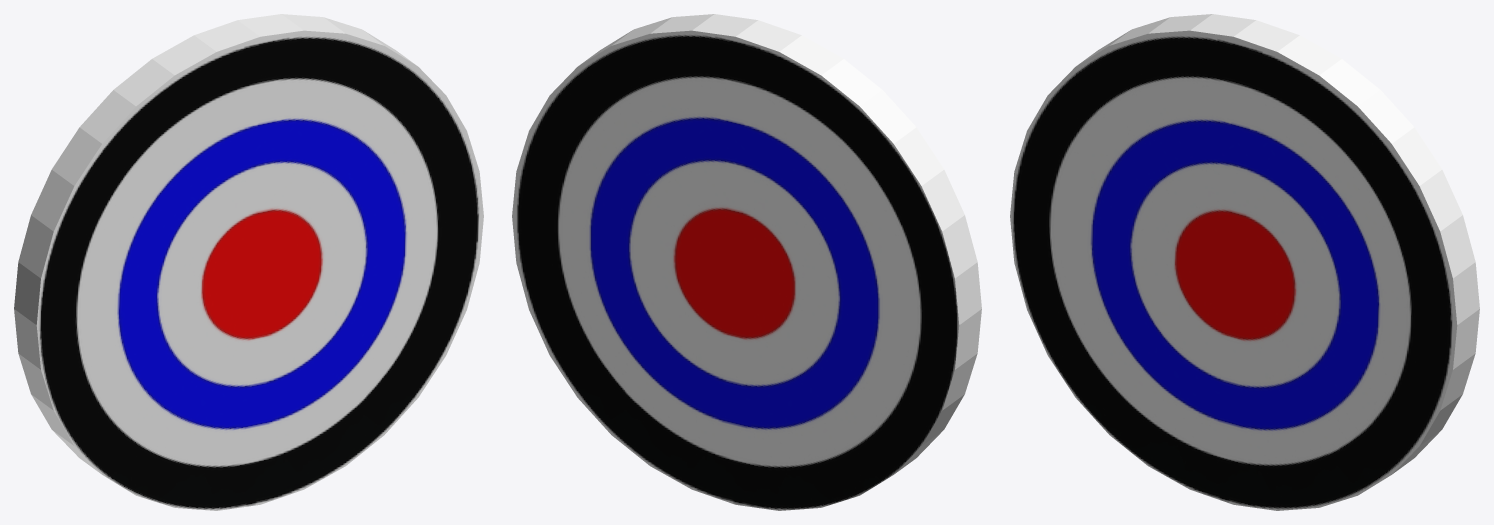
Rendered from mato.glb.
3 views of the same model, side by side, from view 1: azimuth 30°, elevation 25°; view 2: azimuth 150°, elevation 25°; view 3: azimuth 330°, elevation 25° (orthographic).
Parts seen in each view (by area): view 1: 円柱; view 2: 円柱; view 3: 円柱.
Boxes of the visible parts, x1,y1,x2,y2 form: 円柱: [14, 14, 483, 510]; 円柱: [512, 14, 981, 510]; 円柱: [1010, 14, 1479, 510].
Bounding box in the file's own units: 2 × 2 × 0.1759.
Materials: 1 (1 with a texture image).
